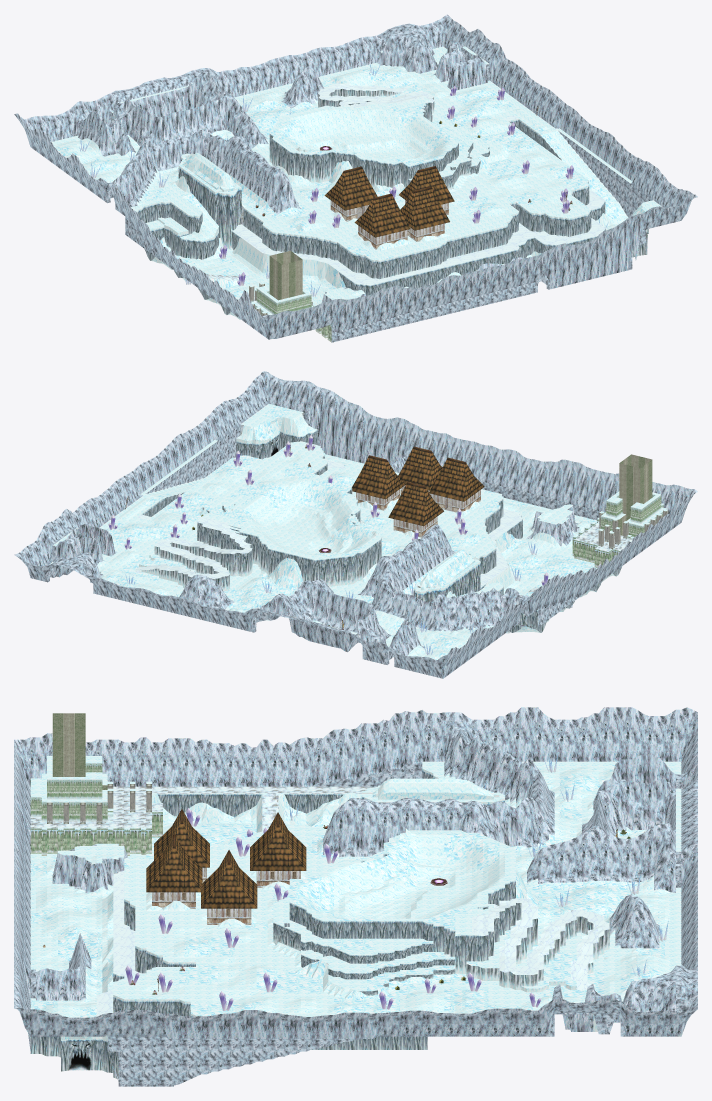
The model's file is snowline.gltf.
3 views of the same model, one above another, from view 1: azimuth 30°, elevation 25°; view 2: azimuth 150°, elevation 25°; view 3: azimuth 270°, elevation 25° (orthographic). The views are drawn at different scales.
Bounding box in the file's own units: 124 × 23.25 × 124.
39 materials, 39 textured.
